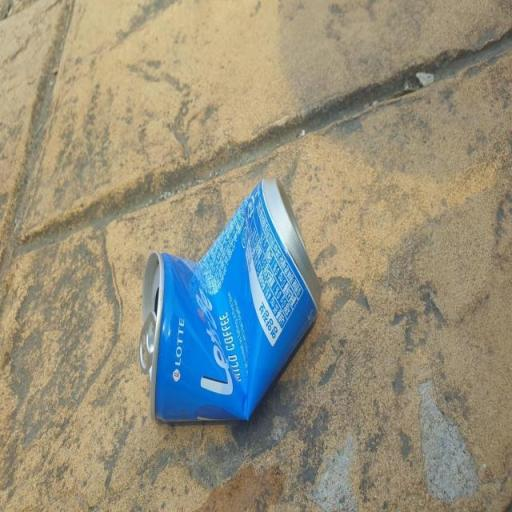metal: (114, 155, 336, 465)
